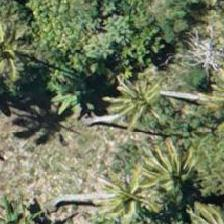coconut_tree: (93, 50, 183, 140), (117, 127, 207, 217), (83, 151, 173, 223)
